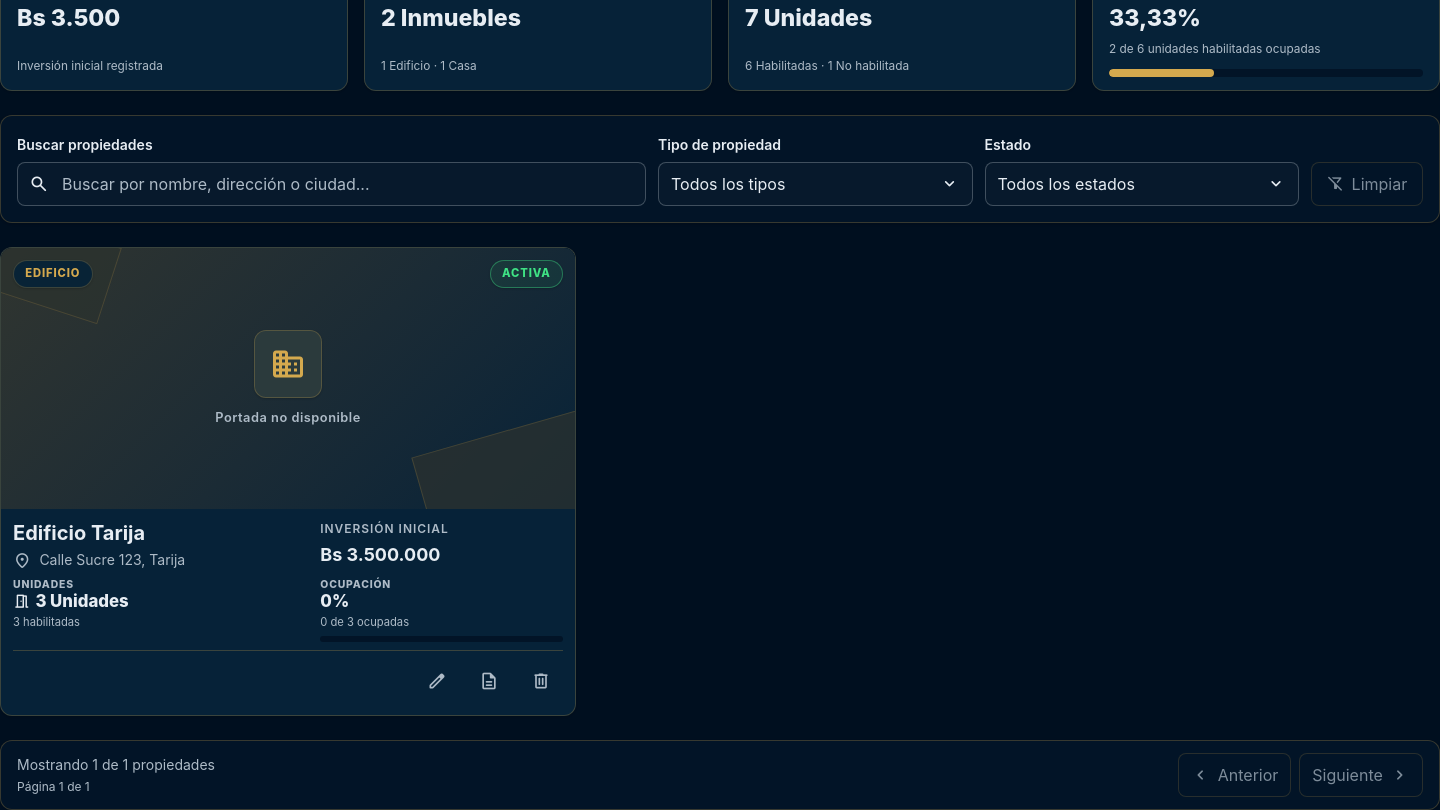
Scenario: PropiedadesListComponent › keeps the status modal open and shows backend feedback on a status error
(page scrolled)
Click the button named "Desactivar propiedad": {"x": 541, "y": 681} [519,659,563,703]
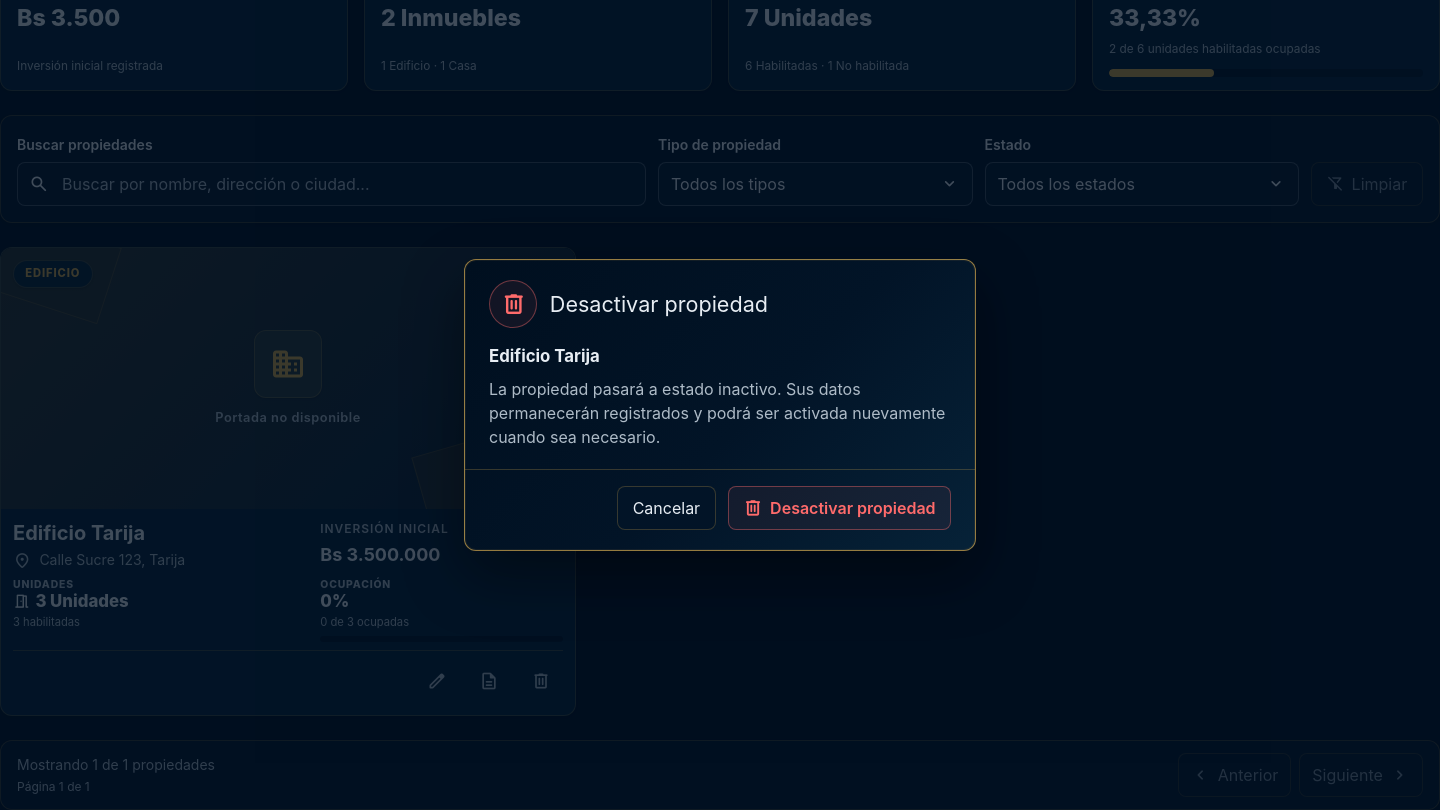
Click the button with class "confirm-button": {"x": 839, "y": 508} [728,486,951,530]
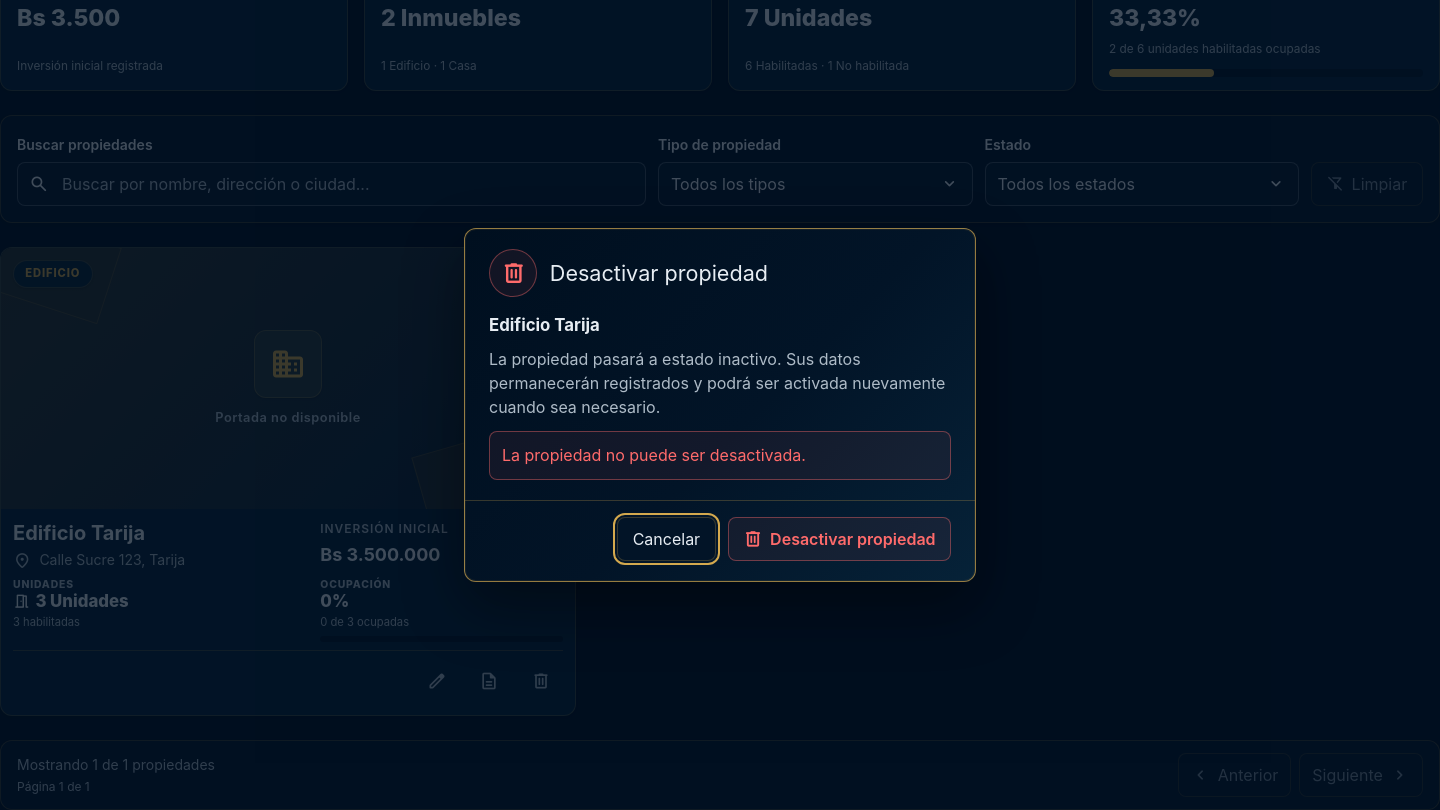
Check: the dialog is shown, box [464,228,976,582]
Check: the message "La propiedad no puede ser desactivada." is shown, box [489,430,951,480]
